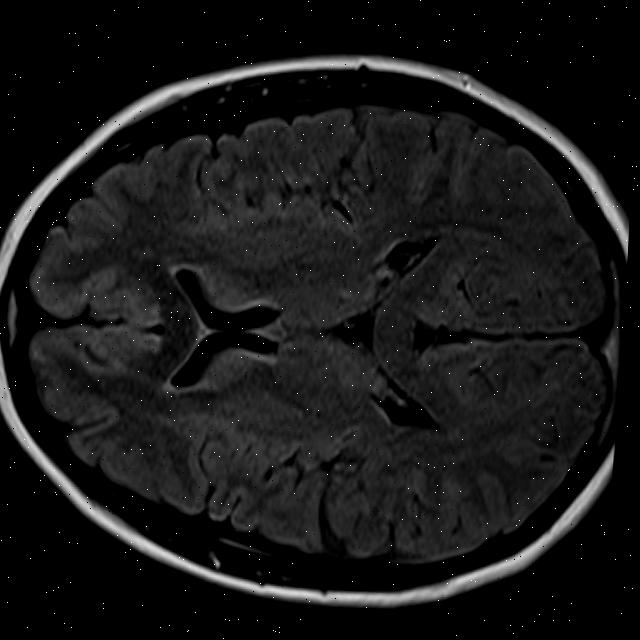NoTumor: (0, 26, 639, 625)
